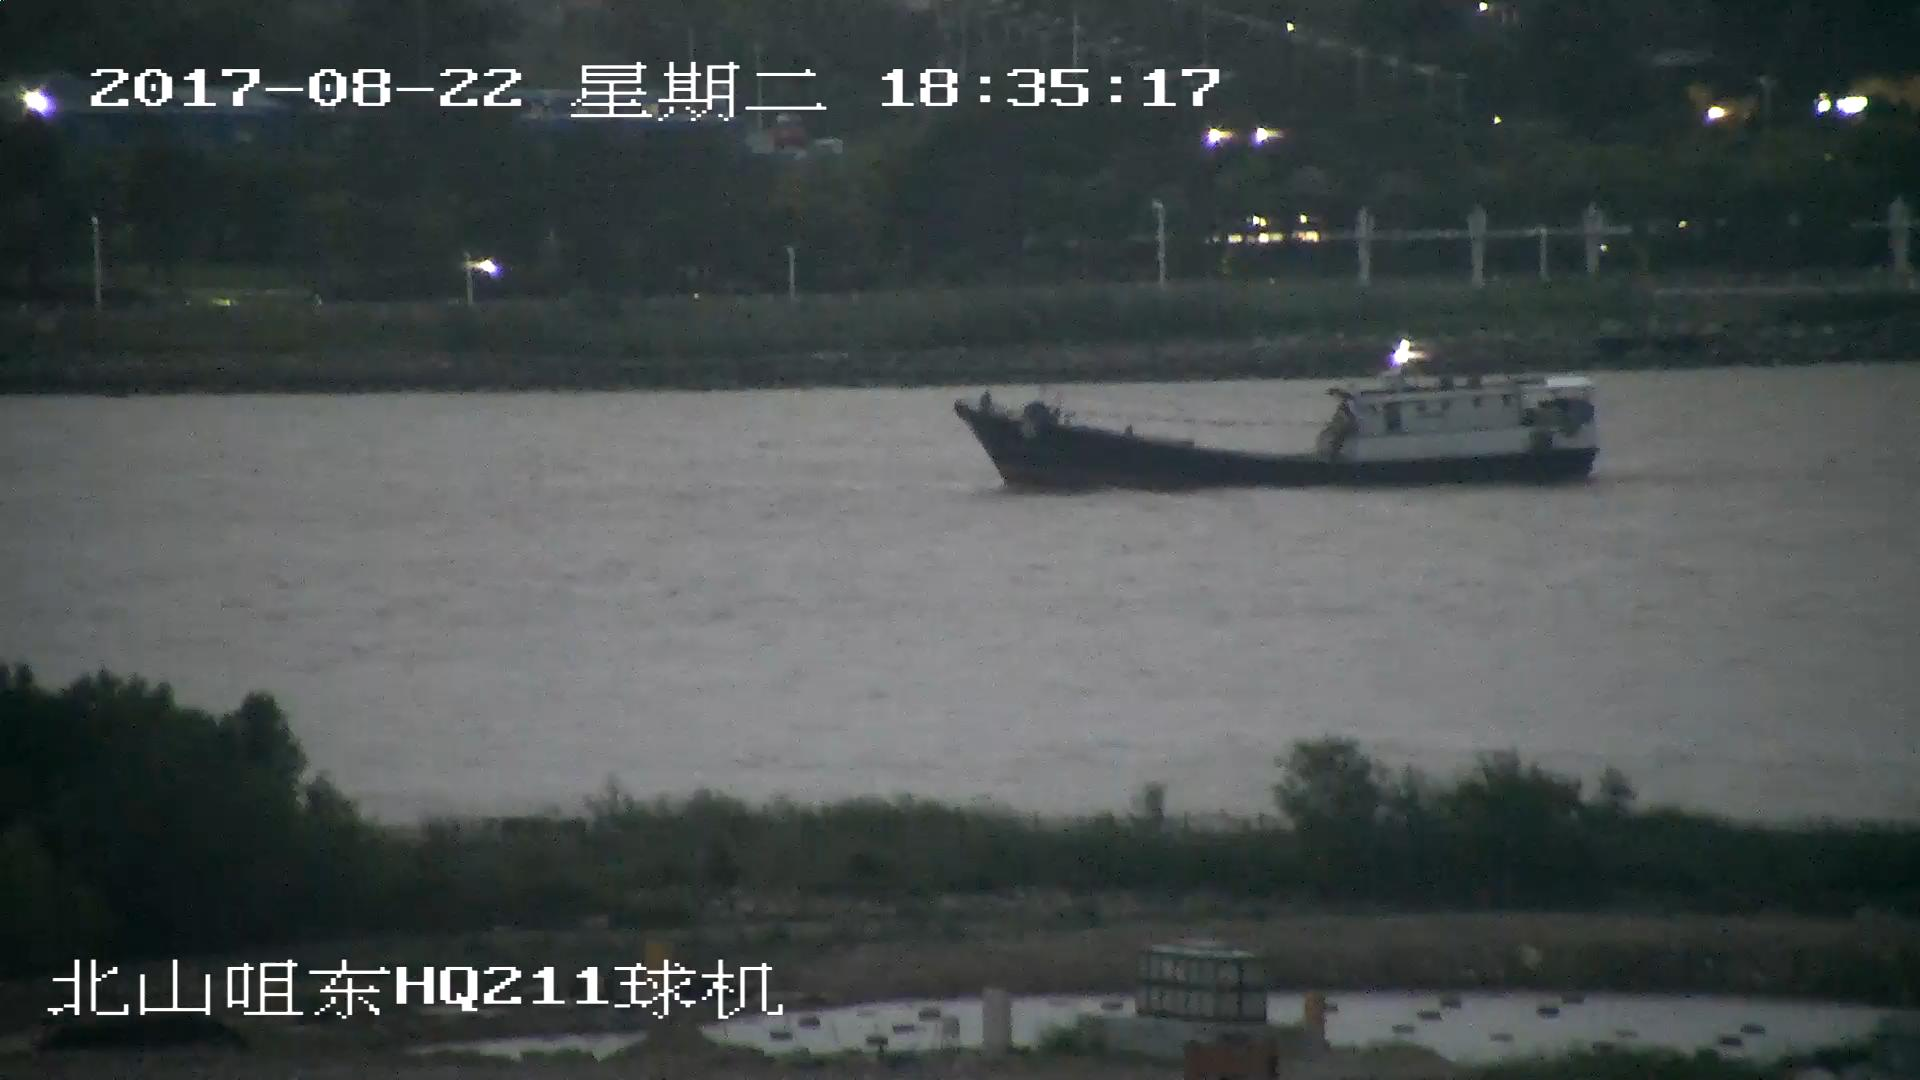fishing boat: (961, 355, 1599, 496)
